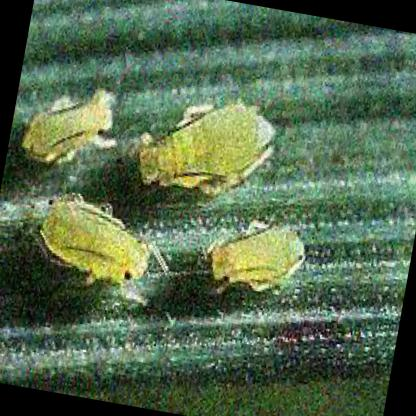schizaphis graminum: (138, 103, 277, 196), (40, 193, 153, 285), (207, 221, 309, 287), (25, 91, 113, 160)
